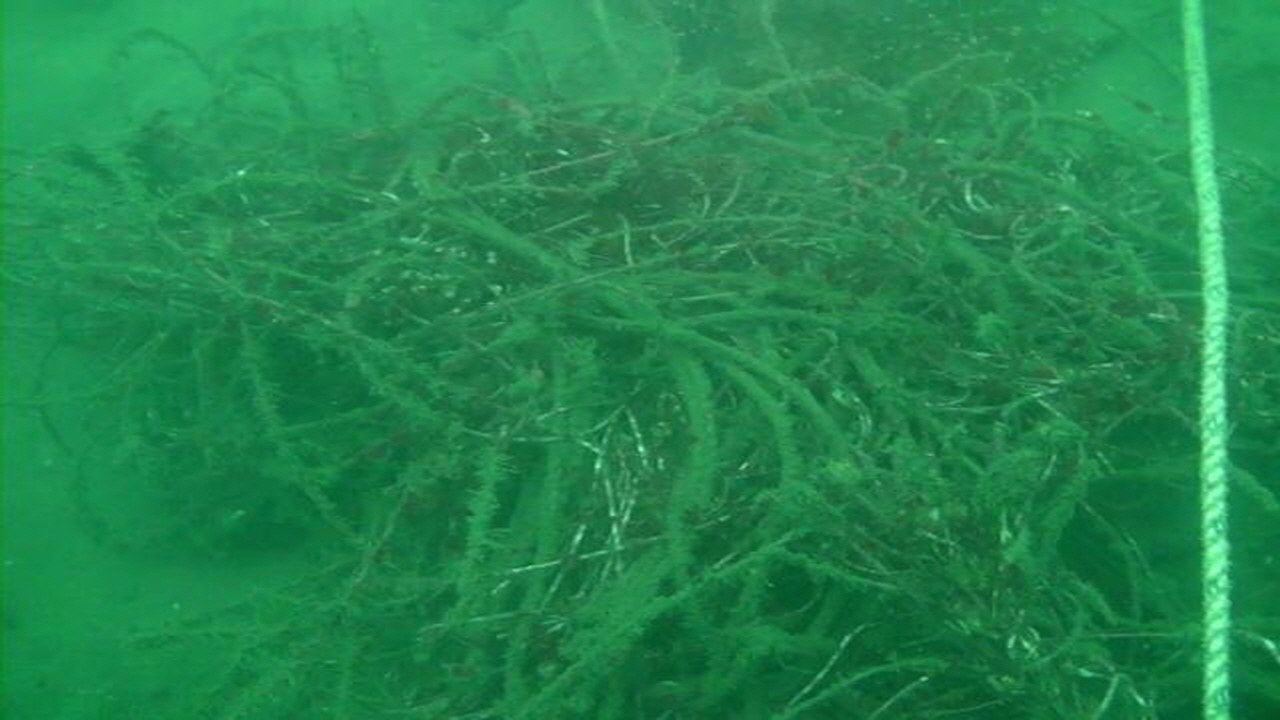rope: (1180, 0, 1231, 720)
